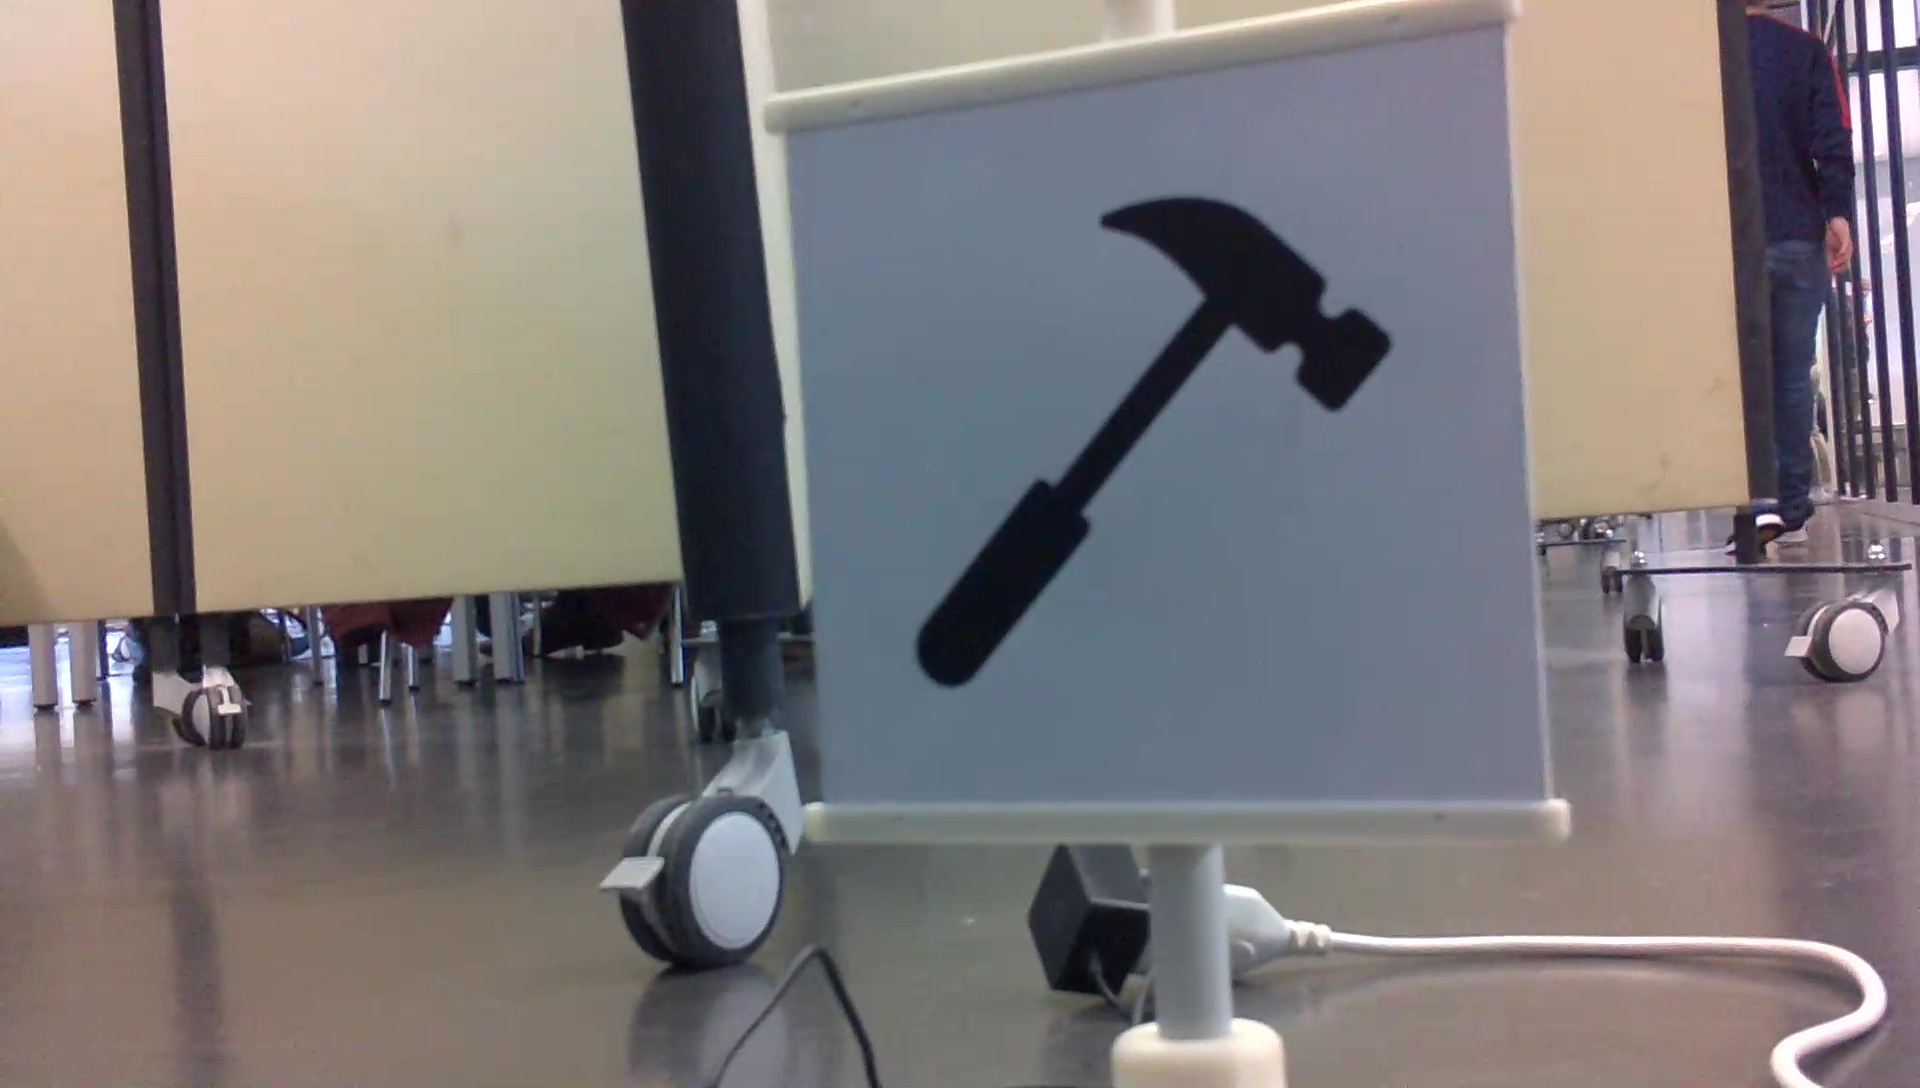hammer: (898, 185, 1399, 700)
